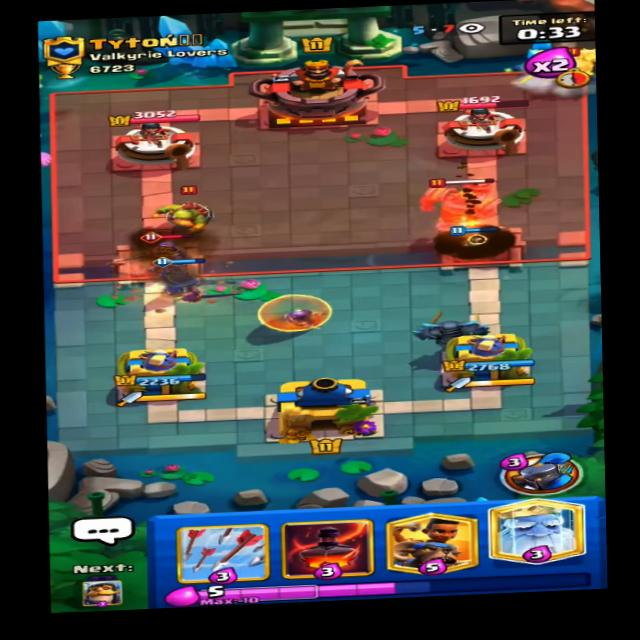EvoKnight: (131, 227, 205, 274)
Goblindemolisher: (149, 186, 235, 232)
Goblinmachine: (417, 173, 512, 228)
Pekka: (514, 45, 601, 89)
